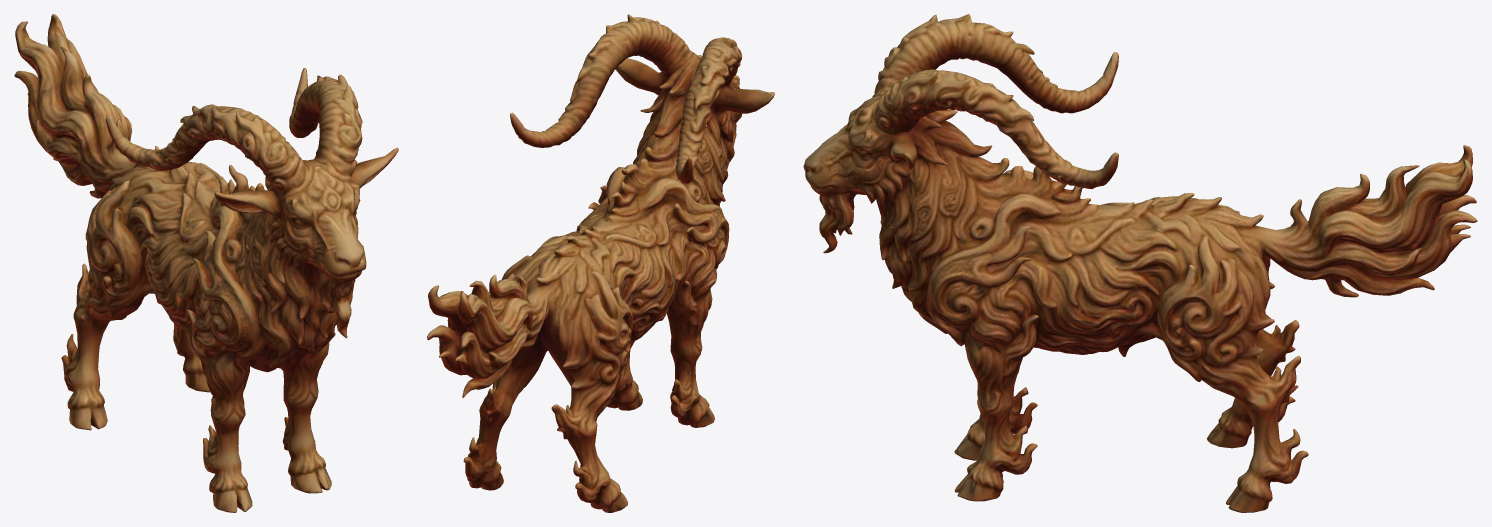
The model's file is goat.glb.
The picture shows the model from 3 angles, left to right: view 1: azimuth 30°, elevation 25°; view 2: azimuth 150°, elevation 25°; view 3: azimuth 270°, elevation 25°; orthographic projection. The views are drawn at different scales.
Visible parts, largest first — view 1: tripo_node_e28344f6-4b85-4fcf-b583-d9ddf54c18d6; view 2: tripo_node_e28344f6-4b85-4fcf-b583-d9ddf54c18d6; view 3: tripo_node_e28344f6-4b85-4fcf-b583-d9ddf54c18d6.
Boxes of the visible parts, x1=… form: tripo_node_e28344f6-4b85-4fcf-b583-d9ddf54c18d6: x1=14, y1=14, x2=398, y2=512; tripo_node_e28344f6-4b85-4fcf-b583-d9ddf54c18d6: x1=427, y1=14, x2=774, y2=512; tripo_node_e28344f6-4b85-4fcf-b583-d9ddf54c18d6: x1=803, y1=14, x2=1477, y2=512.
Size of the model in its own units: 0.3599 by 0.7047 by 1.
Materials: 1 (1 with a texture image).
